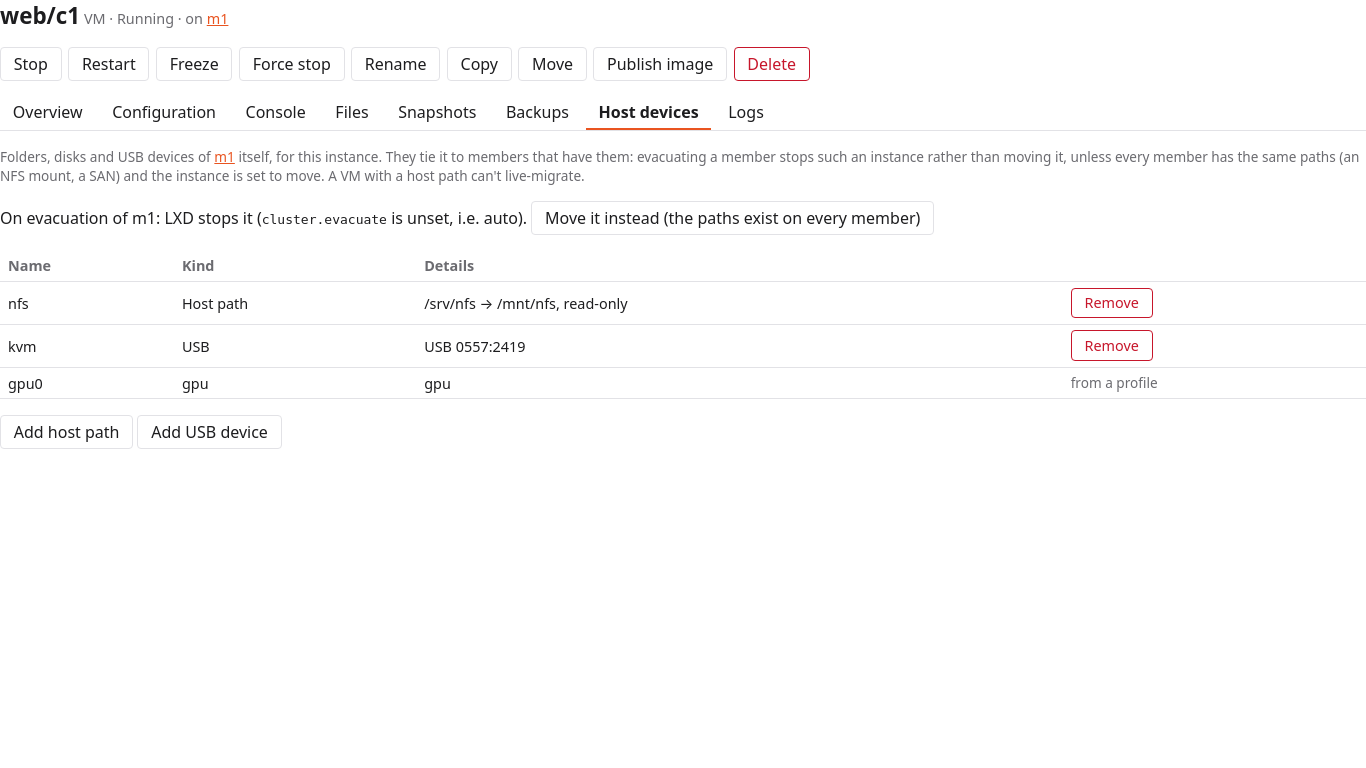
Test: Host devices tab › USB: a VM takes the device; no devices; still loading
Click the button "Add USB device": (210, 432) [138,415,282,449]
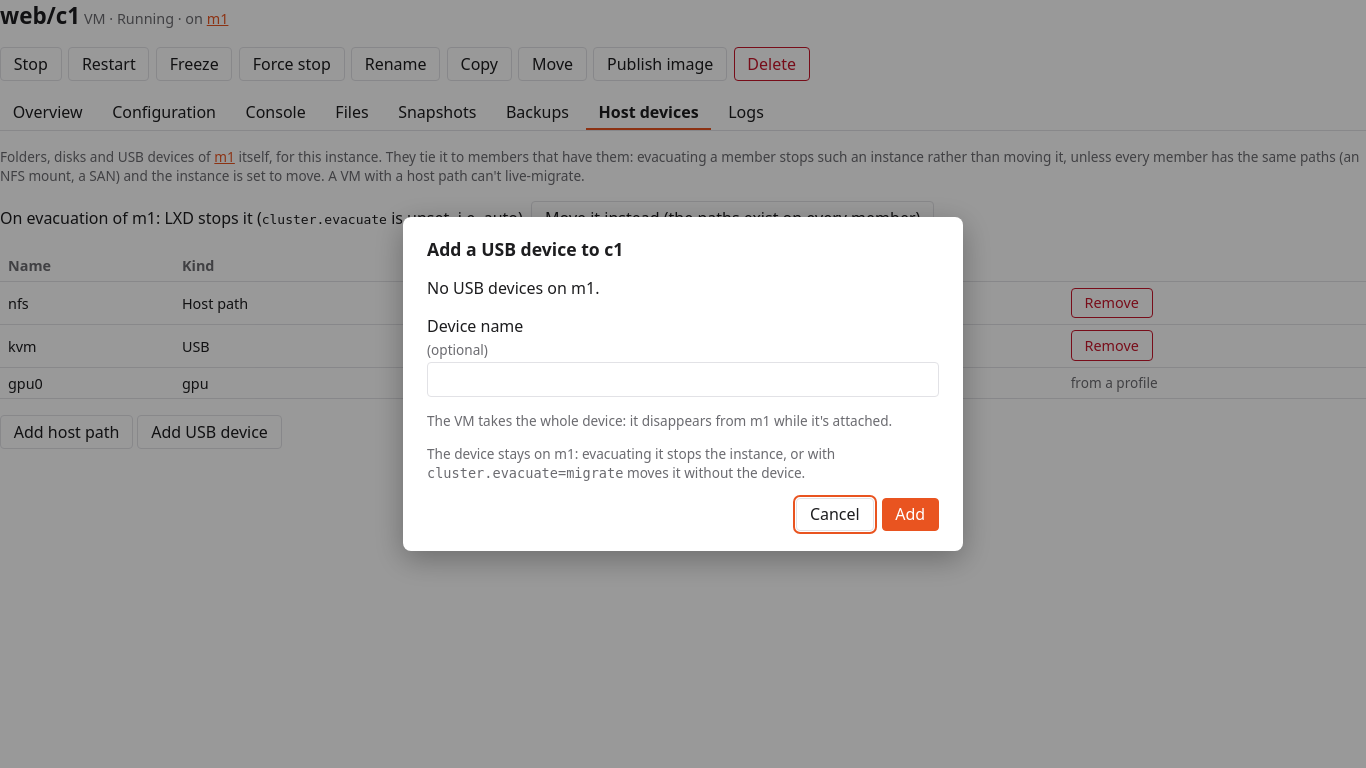
Now the text "The VM takes the whole device" is shown, box [427,411,750,430]
Now the text "No USB devices on m1." is shown, box [427,277,600,299]
